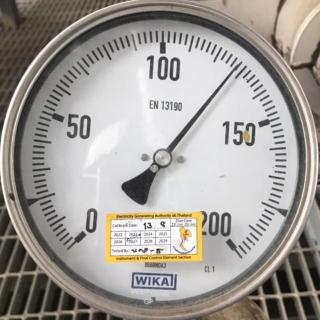gauge: (0, 1, 318, 317), (67, 219, 97, 249), (214, 224, 242, 256), (151, 146, 173, 168), (230, 58, 246, 74)
